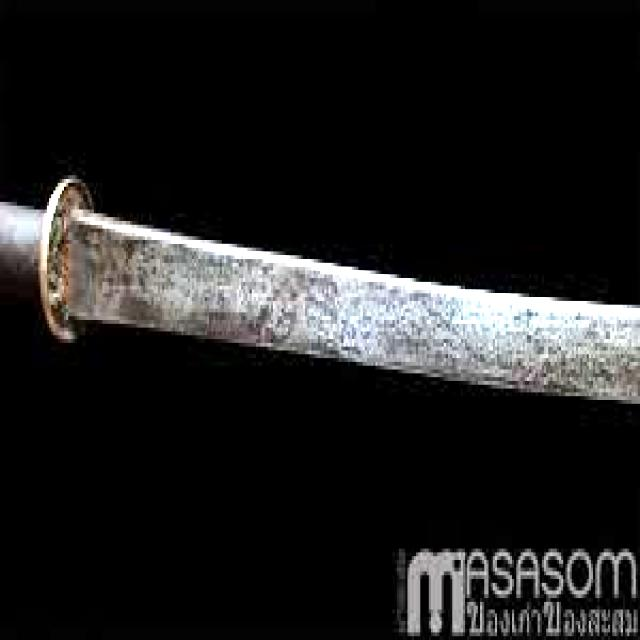long sword: (5, 170, 640, 416)
